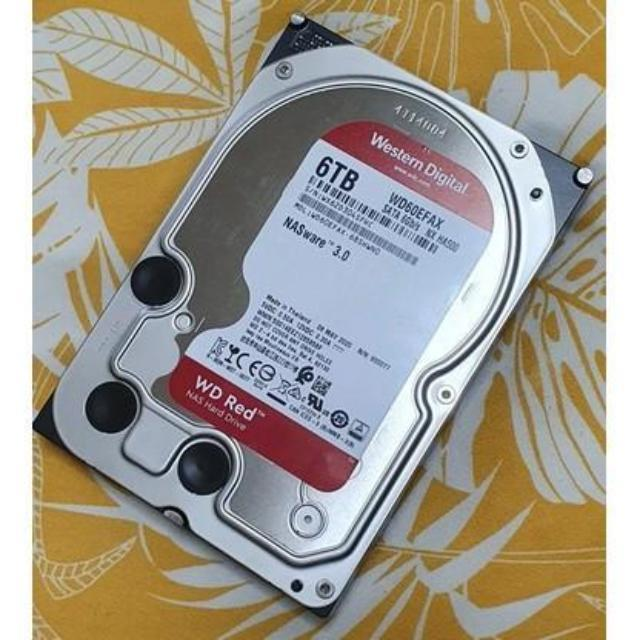DISK: (39, 8, 596, 610)
